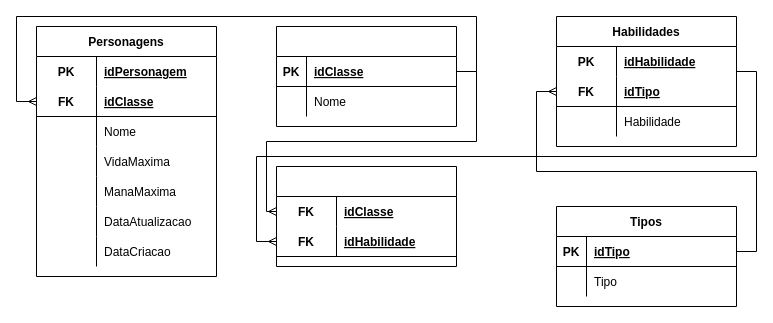
Some shapes in this 773 by 323 pixel diagram are drawn without their labels. The shapes that lost their labels are listed below. From the top down, each one's box as (x1, y1, x2, y2) in pixels, then its label:
(276, 26, 456, 126): Classes
(276, 166, 456, 266): ClassesHabilidades
